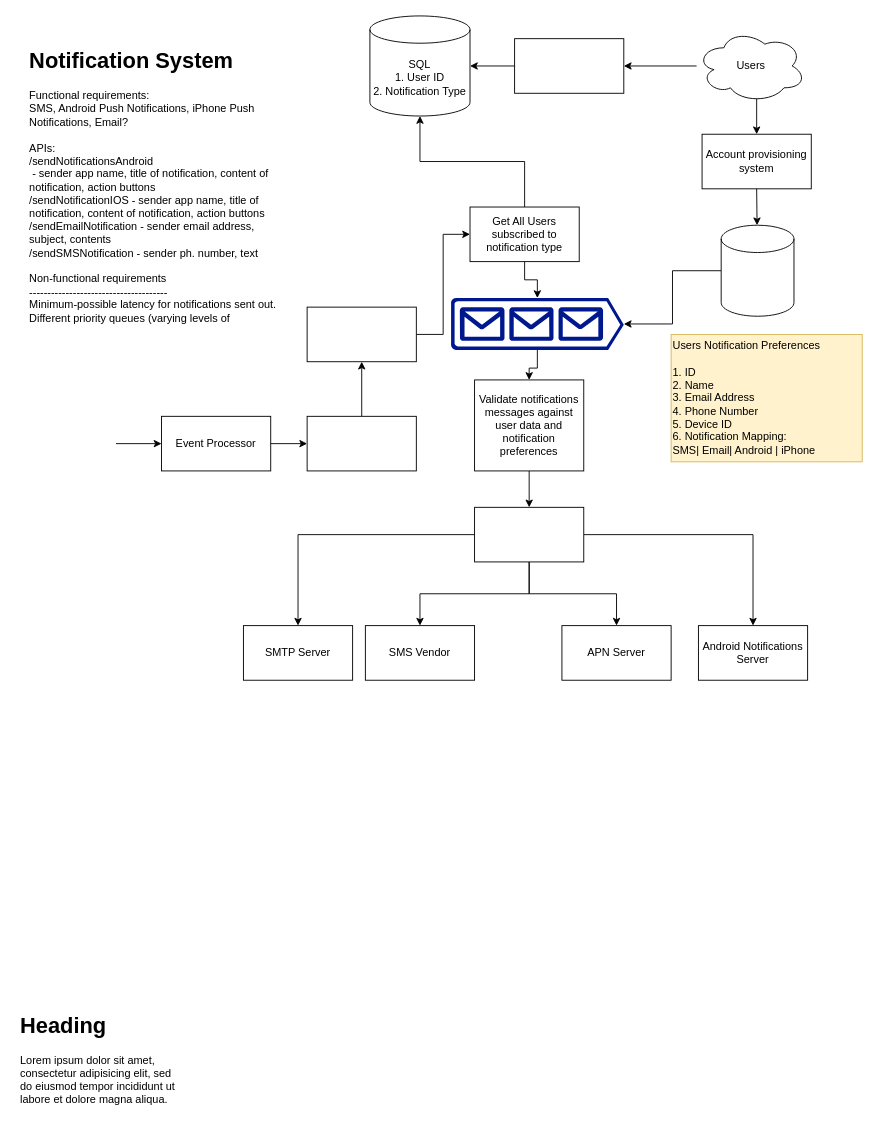
Image size: 878x1133. Some labels were removed from this diagram. The shapes that lost their labels are listed below. From the top down, each one's centre as x and y in pixels, then its label:
point 569,65: Notification Subscription Services
point 757,270: USERS NOTIFIC. PREFS DB
point 361,334: Validate the notification messages
point 361,443: Create notification "messages"
point 529,534: Notification Router
